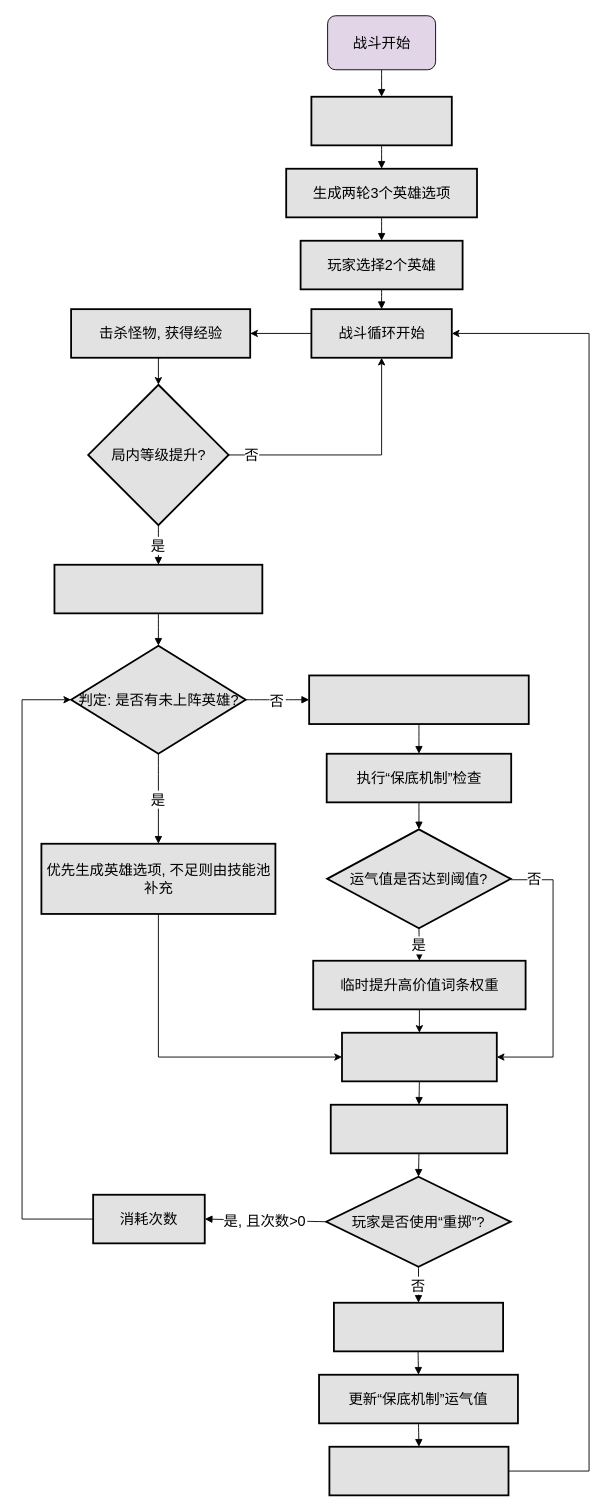
This 612x1512 diagram has some shape labels left out. Each missing label, with the centre of its shape:
"关闭界面, 继续游戏" belongs at point 418,1470.
"向玩家展示3个选项" belongs at point 418,1128.
"完全从技能池生成3个选项" belongs at point 418,699.
"按正常权重随机" belongs at point 419,1056.
"暂停游戏, 触发“三选一”" belongs at point 158,588.
"玩家选择一个词条立即生效" belongs at point 418,1326.
"触发开局选择" belongs at point 381,120.
